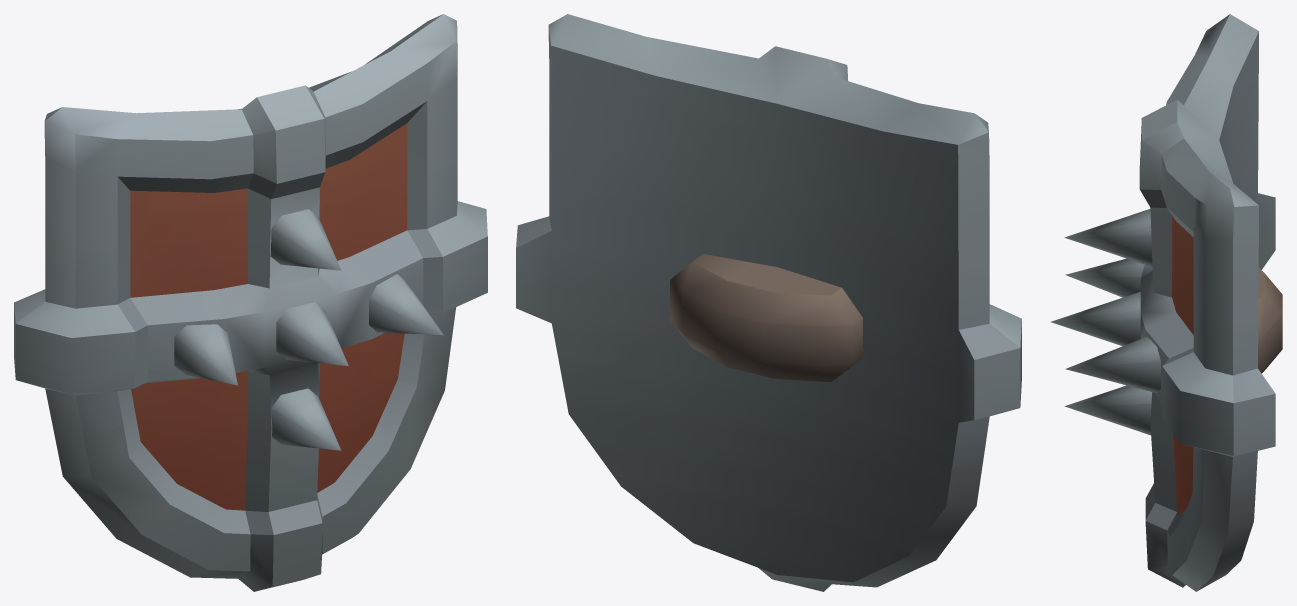
File: shield_spikes.glb
The picture shows the model from 3 angles, left to right: view 1: azimuth 30°, elevation 25°; view 2: azimuth 150°, elevation 25°; view 3: azimuth 270°, elevation 25°; orthographic projection. The views are drawn at different scales.
Parts seen in each view (by area): view 1: shield_spikes; view 2: shield_spikes; view 3: shield_spikes.
Boxes of the visible parts, box(x1,y1,x2,y2) form: shield_spikes: box(14, 14, 487, 591); shield_spikes: box(516, 14, 1021, 591); shield_spikes: box(1051, 14, 1282, 591).
Bounding box in the file's own units: 1.01 × 1.04 × 0.4598.
1 material, 1 textured.
